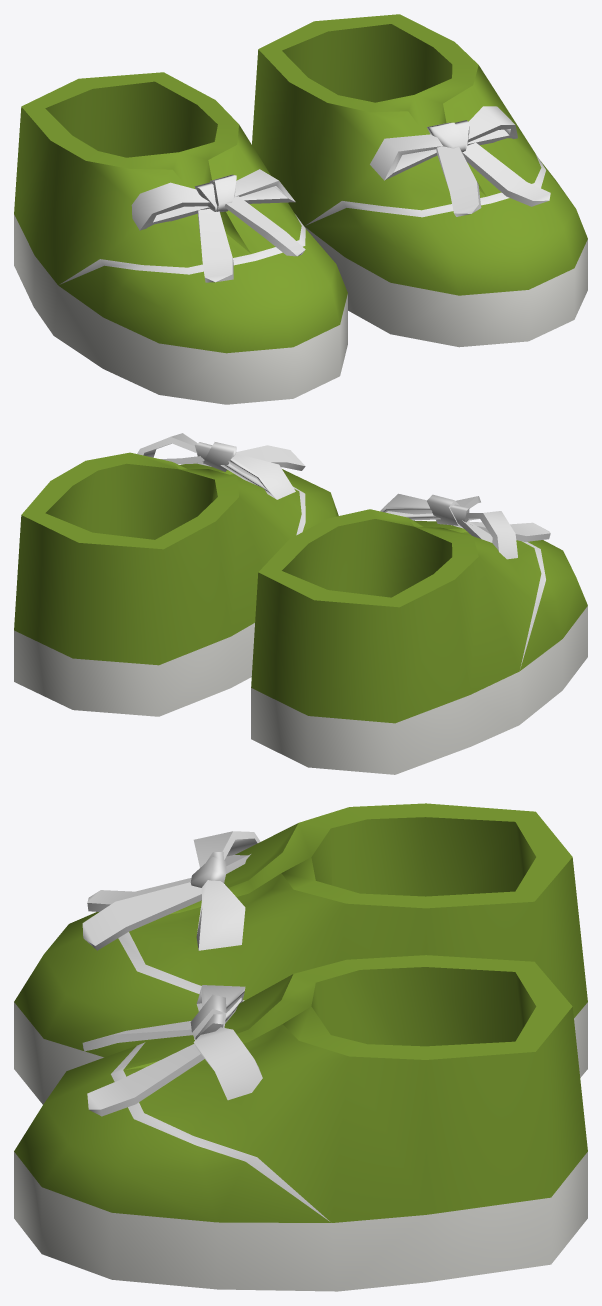
File: Shoe_01.fbx
The picture shows the model from 3 angles, top to bottom: view 1: azimuth 30°, elevation 25°; view 2: azimuth 150°, elevation 25°; view 3: azimuth 270°, elevation 25°; orthographic projection. The views are drawn at different scales.
Visible parts, largest first — view 1: Shoe_01; view 2: Shoe_01; view 3: Shoe_01.
Boxes of the visible parts, box(x1,y1,x2,y2) form: Shoe_01: box(14, 14, 587, 404); Shoe_01: box(14, 433, 587, 774); Shoe_01: box(14, 803, 587, 1291).
Bounding box in the file's own units: 39.94 × 13.43 × 32.76.
